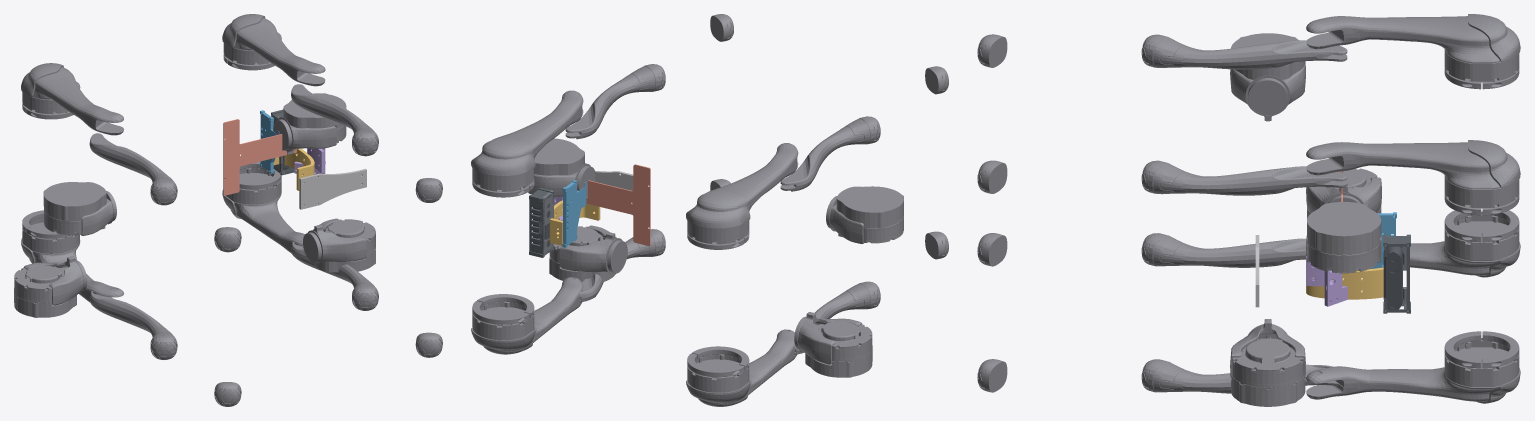
Rendered from go2_full.glb.
3 views of the same model, side by side, from view 1: azimuth 30°, elevation 25°; view 2: azimuth 150°, elevation 25°; view 3: azimuth 270°, elevation 25° (orthographic). The views are drawn at different scales.
Visible parts, largest first — view 1: 大腿-1, 大腿-2, 髋关节-4, 镜像大腿-1, 髋关节-3, 髋关节-2, 镜像大腿-2, 髋关节-1, 雷达延长板-1, 小腿-2, 小腿-1, 镜像小腿-2 (+9 smaller); view 2: 大腿-2, 大腿-1, 镜像大腿-1, 镜像大腿-2, 髋关节-4, 髋关节-3, 髋关节-2, 髋关节-1, 雷达延长板-1, 小腿-2, 小腿-1, 镜像小腿-2 (+9 smaller); view 3: 大腿-1, 大腿-2, 镜像大腿-1, 镜像大腿-2, 髋关节-2, 髋关节-1, 小腿-1, 小腿-2, 镜像小腿-2, 髋关节-3, 镜像小腿-1, 髋关节-4 (+9 smaller).
Part boxes in pixels (left/top/right/bottom): 大腿-1: left=222, top=14, right=325, bottom=86; 大腿-2: left=21, top=63, right=123, bottom=135; 髋关节-4: left=14, top=256, right=87, bottom=317; 镜像大腿-1: left=222, top=161, right=304, bottom=253; 髋关节-3: left=43, top=182, right=116, bottom=235; 髋关节-2: left=303, top=218, right=375, bottom=272; 镜像大腿-2: left=21, top=210, right=123, bottom=302; 髋关节-1: left=273, top=93, right=346, bottom=154; 雷达延长板-1: left=223, top=119, right=296, bottom=195; 小腿-2: left=89, top=133, right=177, bottom=205; 小腿-1: left=291, top=84, right=378, bottom=156; 镜像小腿-2: left=89, top=291, right=177, bottom=359; 大腿-2: left=686, top=143, right=798, bottom=249; 大腿-1: left=471, top=90, right=583, bottom=197; 镜像大腿-1: left=471, top=277, right=583, bottom=354; 镜像大腿-2: left=686, top=329, right=796, bottom=406; 髋关节-4: left=794, top=312, right=872, bottom=377; 髋关节-3: left=826, top=186, right=903, bottom=243; 髋关节-2: left=549, top=225, right=627, bottom=282; 髋关节-1: left=528, top=138, right=595, bottom=198; 雷达延长板-1: left=586, top=164, right=650, bottom=246; 小腿-2: left=780, top=116, right=880, bottom=191; 小腿-1: left=565, top=64, right=665, bottom=139; 镜像小腿-2: left=794, top=281, right=880, bottom=354; 大腿-1: left=1306, top=140, right=1520, bottom=215; 大腿-2: left=1306, top=14, right=1520, bottom=89; 镜像大腿-1: left=1306, top=331, right=1520, bottom=403; 镜像大腿-2: left=1383, top=210, right=1520, bottom=277; 髋关节-2: left=1230, top=319, right=1305, bottom=406; 髋关节-1: left=1306, top=202, right=1381, bottom=273; 小腿-1: left=1141, top=160, right=1347, bottom=195; 小腿-2: left=1141, top=34, right=1347, bottom=69; 镜像小腿-2: left=1141, top=233, right=1306, bottom=267; 髋关节-3: left=1230, top=33, right=1305, bottom=121; 镜像小腿-1: left=1141, top=359, right=1338, bottom=393; 髋关节-4: left=1306, top=168, right=1381, bottom=218.
Bounding box in the file's own units: 0.623 × 0.3574 × 0.7039.
